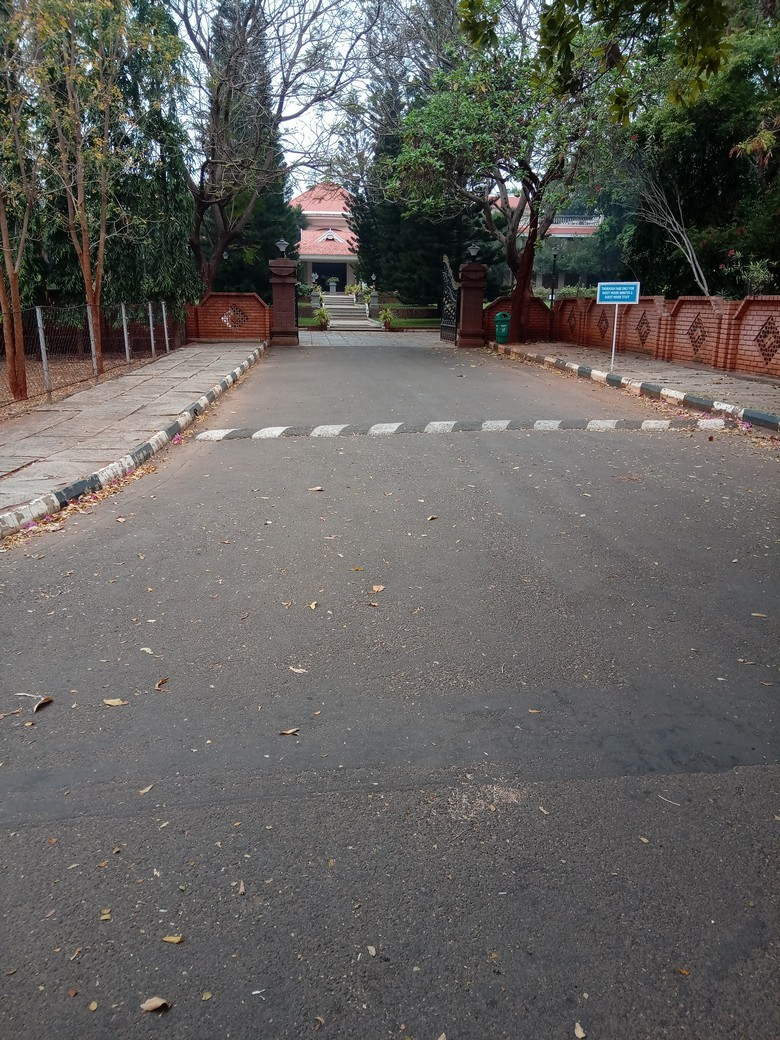bump: (175, 416, 759, 445)
